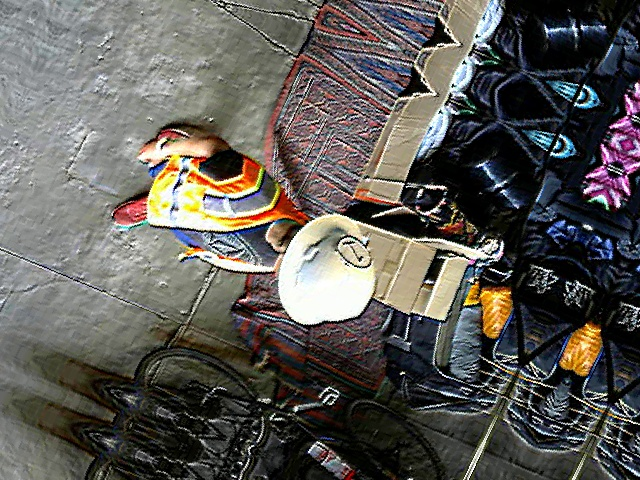one: (332, 233, 379, 272)
